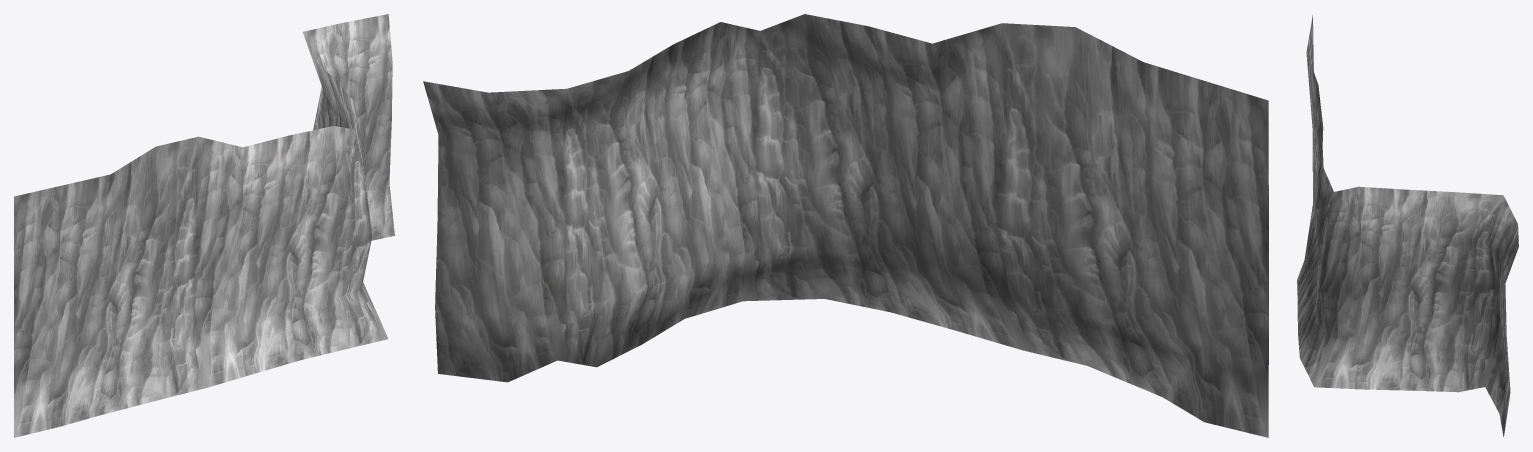
File: SWORDLIGHT20_PS-AREA03_179.fbx
3 views of the same model, side by side, from view 1: azimuth 30°, elevation 25°; view 2: azimuth 150°, elevation 25°; view 3: azimuth 270°, elevation 25° (orthographic). The views are drawn at different scales.
Visible parts, largest first — view 1: SWORDLIGHT20_PS-AREA03_179; view 2: SWORDLIGHT20_PS-AREA03_179; view 3: SWORDLIGHT20_PS-AREA03_179.
Part boxes in pixels (x1=…): SWORDLIGHT20_PS-AREA03_179: x1=14, y1=14, x2=394, y2=437; SWORDLIGHT20_PS-AREA03_179: x1=423, y1=14, x2=1268, y2=437; SWORDLIGHT20_PS-AREA03_179: x1=1297, y1=15, x2=1518, y2=436.
Size of the model in its own units: 106239 by 53576 by 46631.
1 material, 1 textured.
